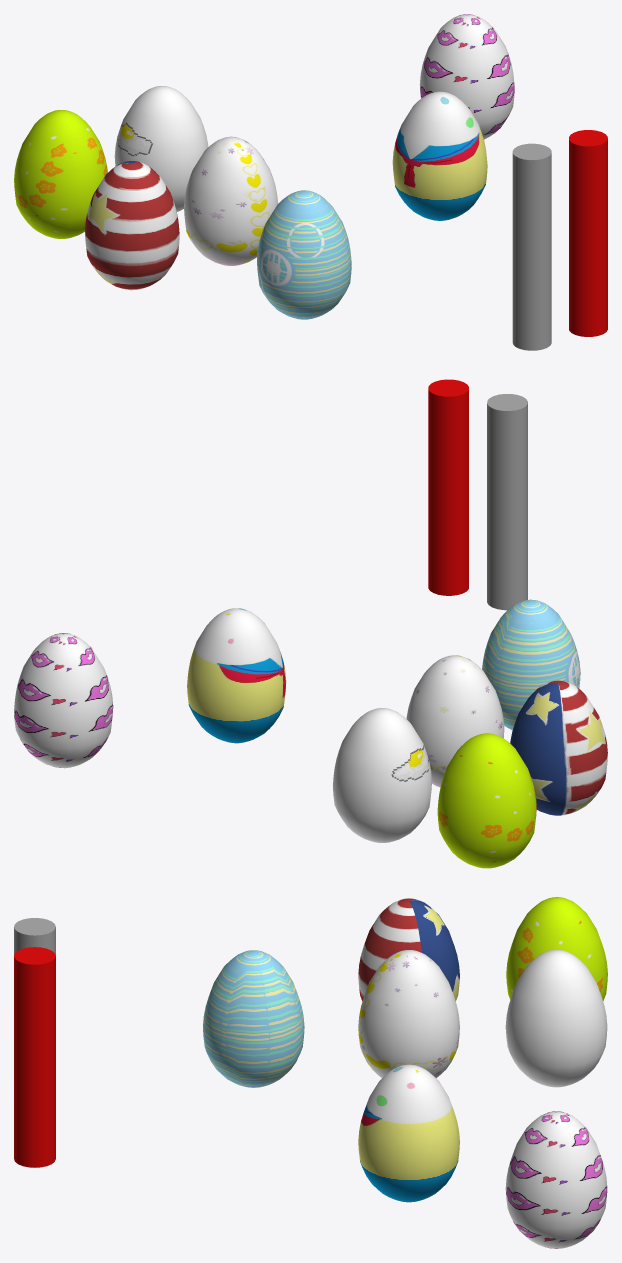
Rendered from egg.fbx.
3 renders of one model, top to bottom at view 1: azimuth 30°, elevation 25°; view 2: azimuth 150°, elevation 25°; view 3: azimuth 270°, elevation 25°, orthographic. The views are drawn at different scales.
Parts seen in each view (by area): view 1: pSphere12, pSphere9, pSphere6, pSphere7, pSphere1, pCylinder1, pCylinder2, pSphere5, pSphere2; view 2: pSphere1, pSphere9, pSphere5, pSphere2, pSphere6, pCylinder2, pCylinder1, pSphere12, pSphere7; view 3: pSphere9, pSphere2, pSphere12, pSphere5, pSphere7, pCylinder2, pSphere1, pSphere6, pCylinder1.
Boxes of the visible parts, x1,y1,x2,y2 form: pSphere12: (257, 190, 351, 319); pSphere9: (392, 91, 487, 220); pSphere6: (84, 161, 179, 290); pSphere7: (184, 136, 278, 265); pSphere1: (14, 110, 107, 238); pCylinder1: (512, 143, 551, 350); pCylinder2: (569, 130, 607, 336); pSphere5: (419, 14, 514, 139); pSphere2: (114, 86, 208, 211); pSphere1: (437, 733, 536, 868); pSphere9: (187, 608, 286, 743); pSphere5: (14, 633, 113, 768); pSphere2: (333, 708, 431, 842); pSphere6: (510, 680, 607, 815); pCylinder2: (428, 379, 468, 595); pCylinder1: (487, 394, 527, 610); pSphere12: (482, 599, 580, 730); pSphere7: (406, 655, 504, 787); pSphere9: (358, 1064, 459, 1202); pSphere2: (505, 949, 607, 1087); pSphere12: (203, 950, 304, 1087); pSphere5: (505, 1111, 607, 1248); pSphere7: (358, 950, 459, 1078); pCylinder2: (14, 947, 55, 1167); pSphere1: (506, 897, 607, 1000); pSphere6: (358, 898, 459, 1001); pCylinder1: (14, 918, 55, 955).
Size of the model in its own units: 14.03 by 5.87 by 13.87.
